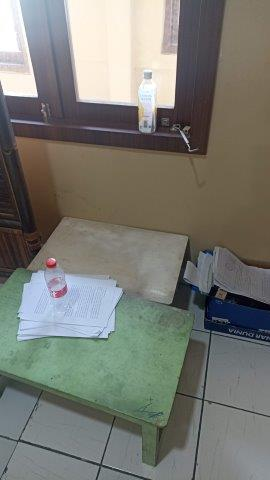botolplastik: (46, 257, 71, 314), (136, 70, 156, 135)
kertas: (19, 268, 125, 343), (215, 249, 270, 301)
